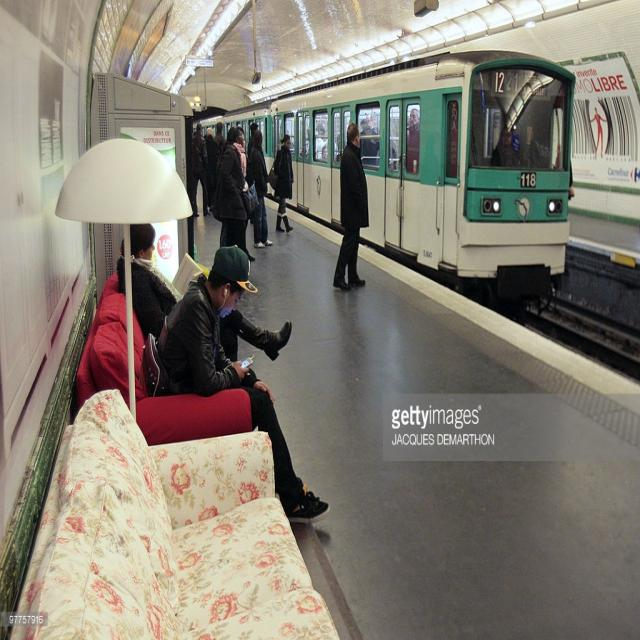body: (139, 240, 332, 527), (116, 222, 293, 364), (331, 120, 370, 293), (280, 118, 398, 169), (212, 125, 248, 249), (228, 125, 260, 262), (249, 129, 275, 250), (488, 120, 540, 170), (272, 133, 294, 235), (190, 121, 212, 218), (204, 125, 220, 215), (405, 107, 420, 174), (247, 121, 260, 162), (213, 120, 226, 146), (192, 130, 197, 136)
